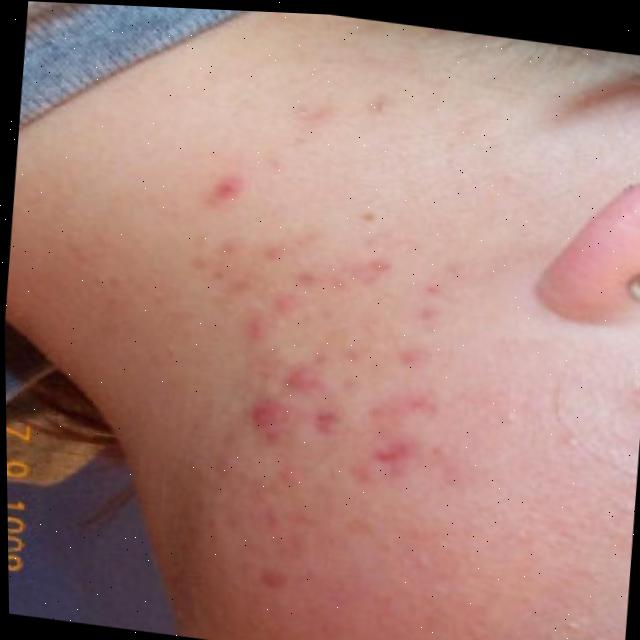Acne: (168, 226, 453, 526)
